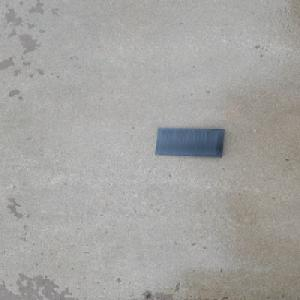PlasticPart: (154, 127, 226, 157)
